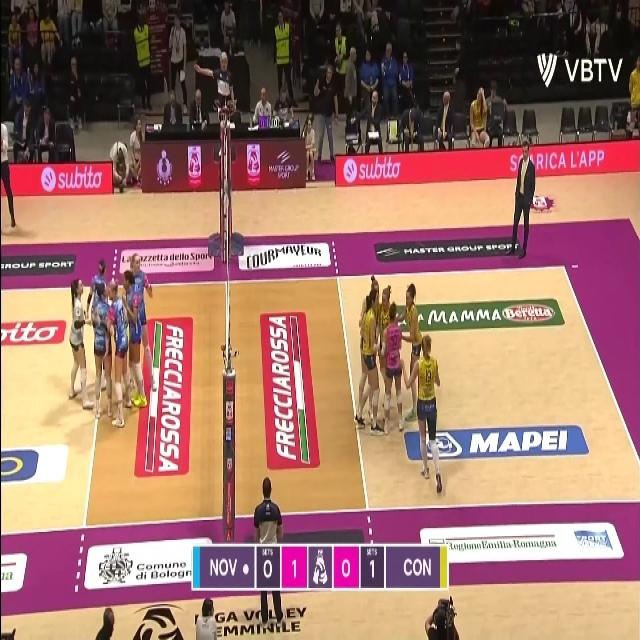volleyball court: (0, 269, 638, 532)
